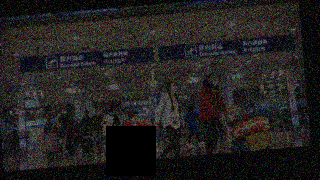mask_weared_incorrect: (129, 115, 138, 124)
with_mask: (169, 83, 178, 93), (210, 76, 218, 87), (61, 109, 67, 116), (95, 109, 100, 116), (83, 111, 88, 117), (101, 111, 106, 117), (108, 111, 114, 116), (76, 120, 80, 124)
without_mask: (43, 114, 48, 120)
